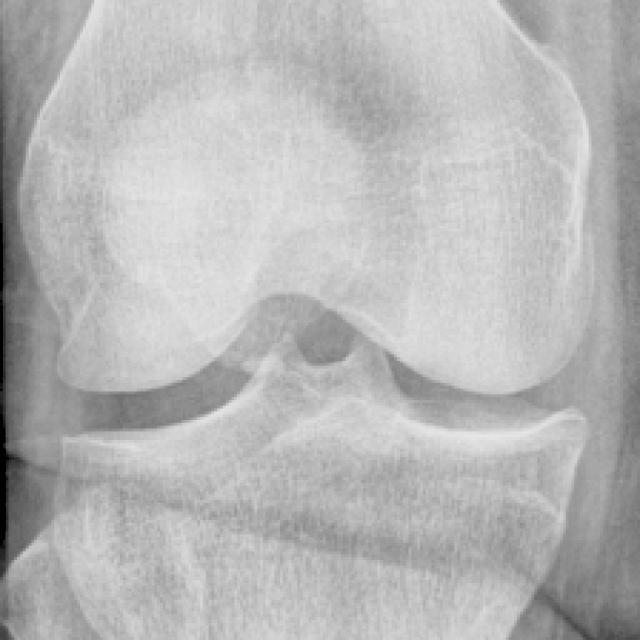femur: (16, 0, 591, 395)
tibia: (55, 339, 583, 637)
